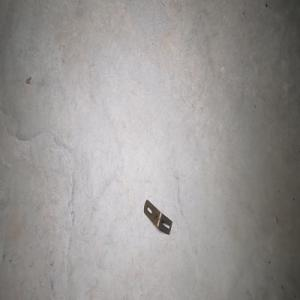MetalPart: (143, 198, 172, 235)
